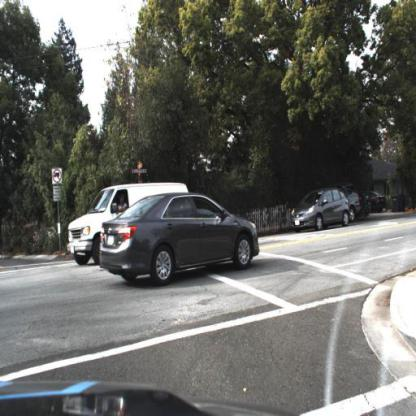car: (98, 190, 263, 291), (67, 181, 190, 263), (292, 185, 350, 232), (369, 190, 390, 217)
